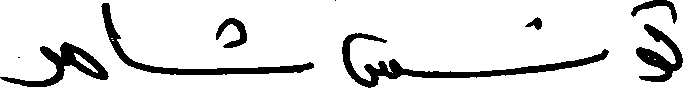ا: (104, 0, 125, 80)
ت: (665, 0, 681, 81)
ث: (214, 19, 314, 74)
ر: (0, 40, 68, 87)
س: (341, 31, 400, 87)
م: (65, 41, 104, 80)
ن: (527, 18, 607, 64)
و: (633, 41, 666, 82)
